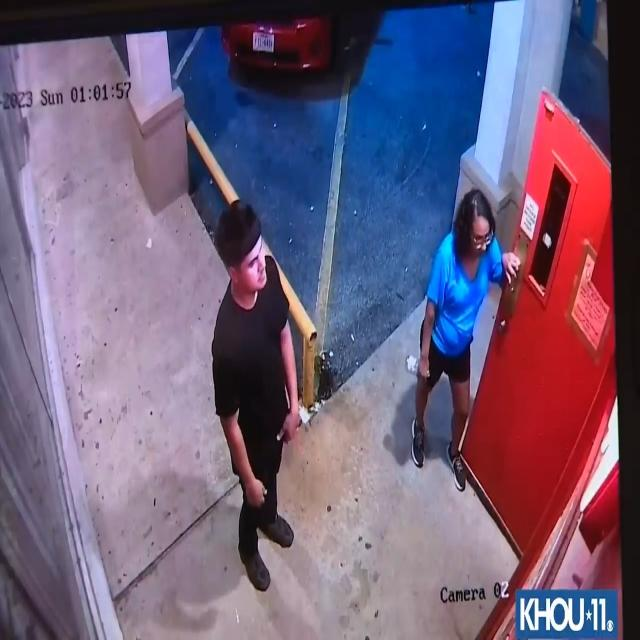Person: (207, 194, 315, 602), (408, 175, 519, 512)
